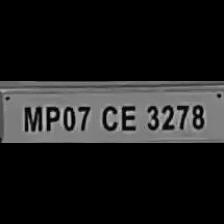0: (61, 102, 78, 132)
2: (159, 100, 177, 132)
3: (144, 102, 160, 132)
7: (76, 102, 92, 132), (172, 101, 188, 131)
8: (188, 102, 206, 131)
C: (96, 102, 118, 132)
E: (118, 102, 138, 132)
M: (21, 103, 41, 133)
P: (41, 102, 59, 132)
